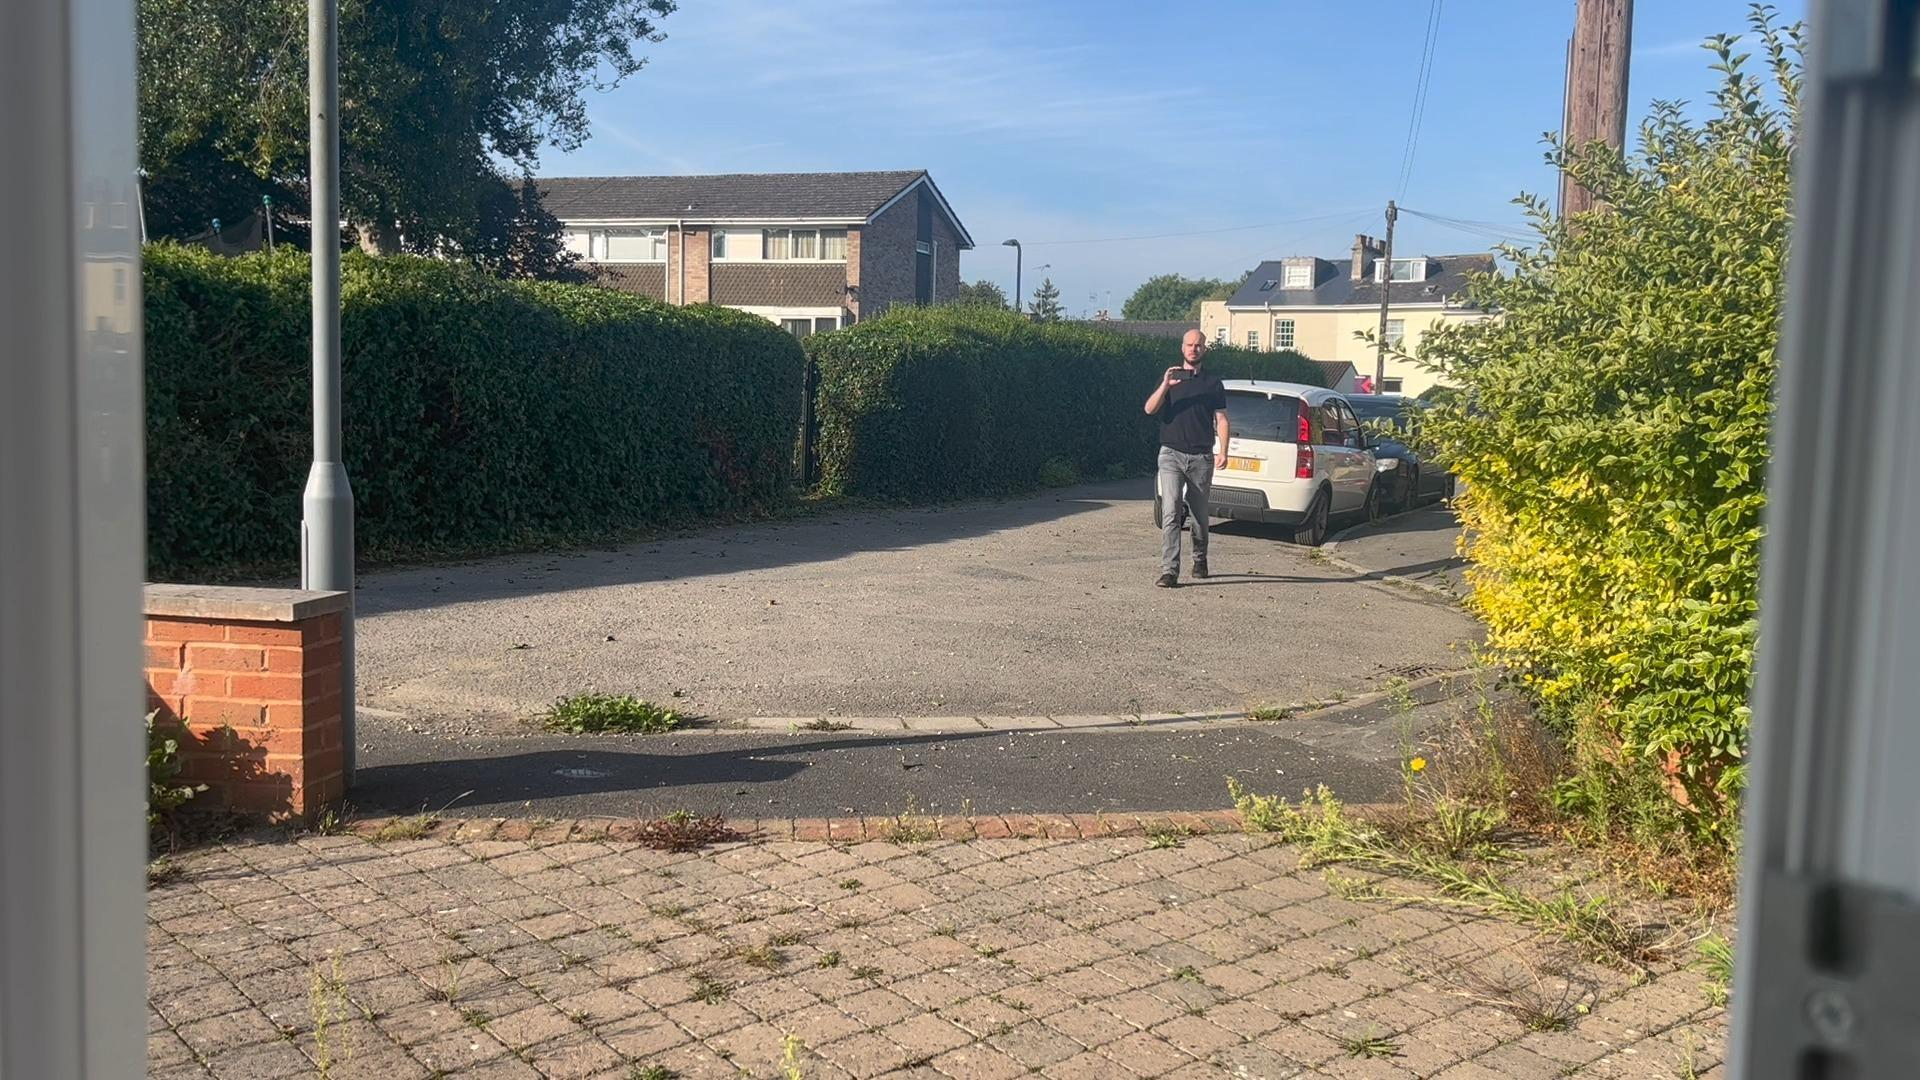phone: (1167, 368, 1195, 381)
